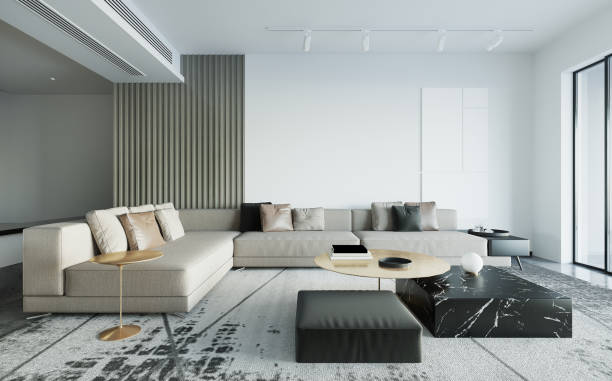sofa: (21, 201, 488, 314)
table: (398, 254, 575, 342), (309, 244, 452, 291)
